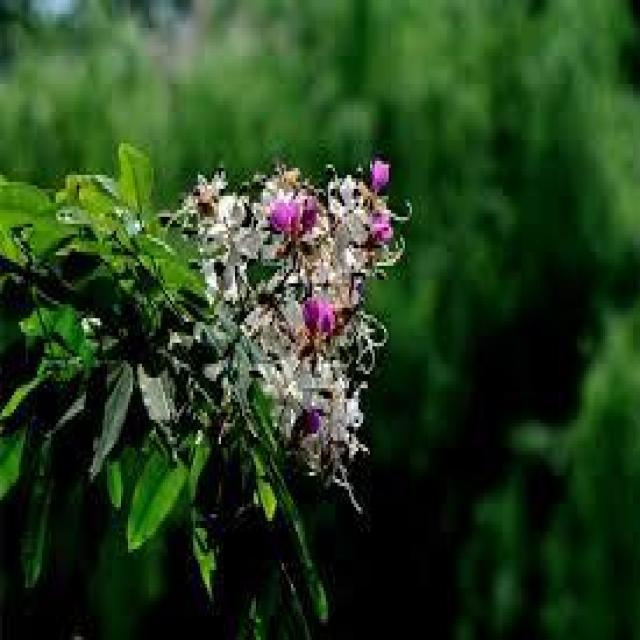organic waste: (198, 147, 398, 503)
